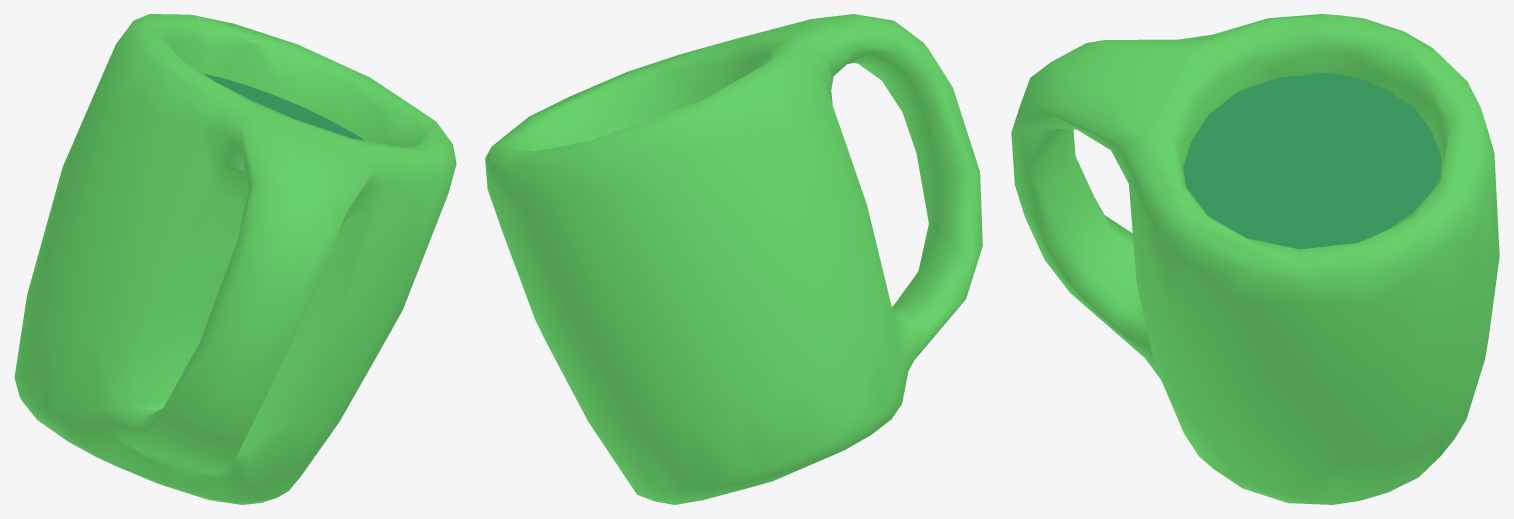
Rendered from careers_02.glb.
The picture shows the model from 3 angles, left to right: view 1: azimuth 30°, elevation 25°; view 2: azimuth 150°, elevation 25°; view 3: azimuth 270°, elevation 25°; orthographic projection. The views are drawn at different scales.
Parts seen in each view (by area): view 1: mug.002, fluid; view 2: mug.002; view 3: mug.002, fluid.
Part boxes in pixels (x1=…): mug.002: x1=14, y1=14, x2=456, y2=504; fluid: x1=203, y1=73, x2=364, y2=140; mug.002: x1=485, y1=14, x2=982, y2=504; mug.002: x1=1011, y1=14, x2=1499, y2=504; fluid: x1=1183, y1=72, x2=1441, y2=249.
Size of the model in its own units: 1.04 by 1.12 by 1.12.
